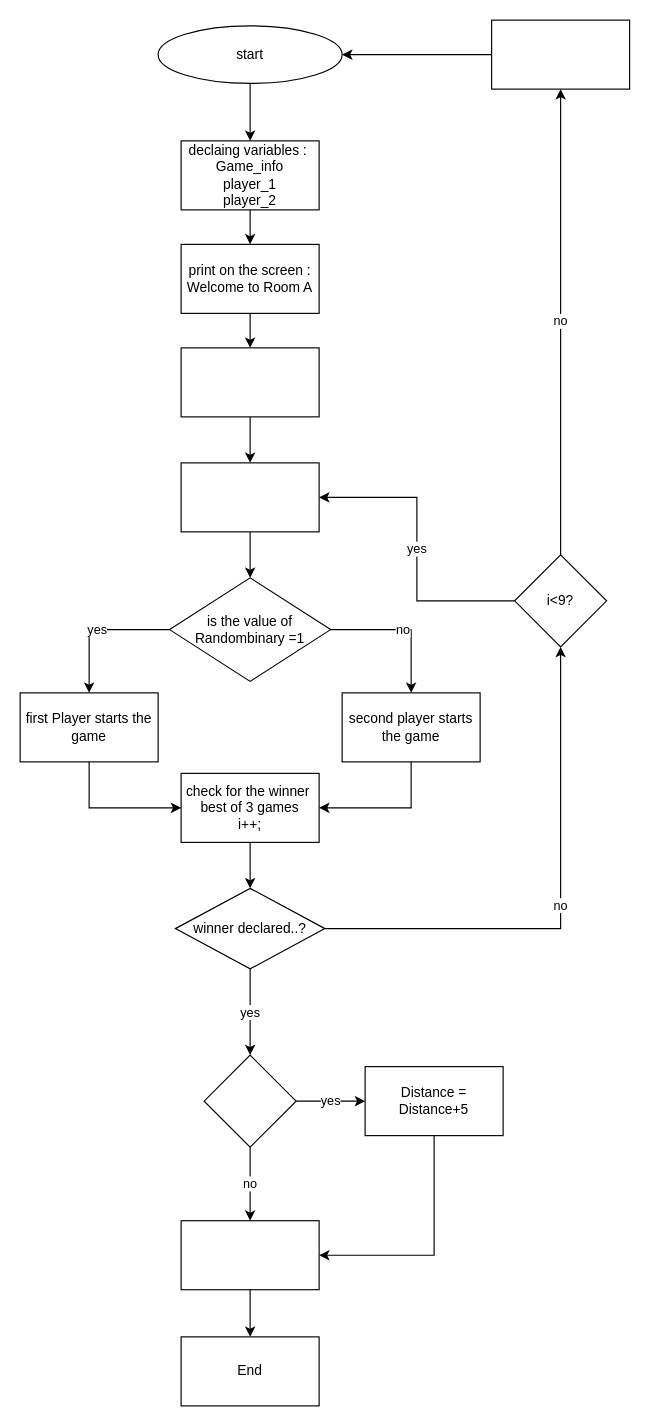
Image size: 650x1426. Some labels were removed from this diagram. The centre of each missing label's shape, as x and y in pixels:
call Randombinary: the point at 249,497
is player 1 winner..?: the point at 249,1100
prompt user to start "Tic Tac Toe" game: the point at 249,382
Store all the data into Game_info: the point at 249,1255
Time = i+2; & reset the game: the point at 560,54
